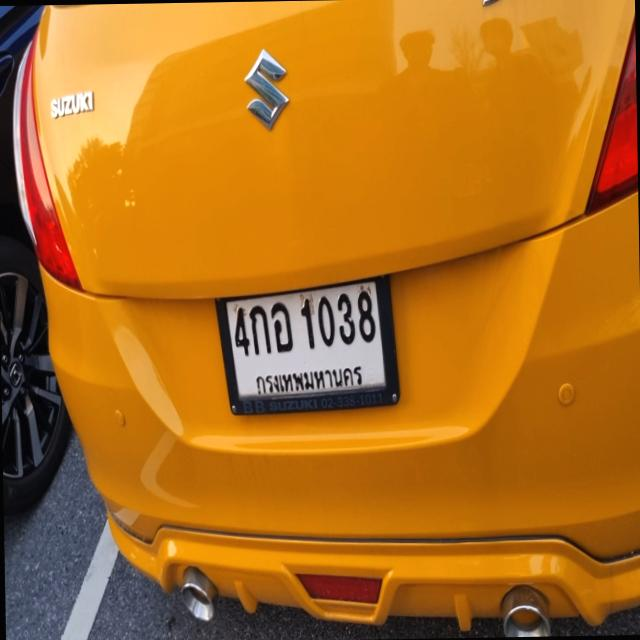license_plate: (210, 268, 400, 422)
